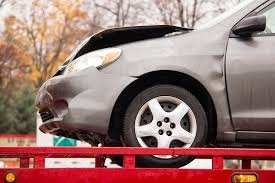Dent: (57, 25, 187, 69), (207, 52, 232, 94)
